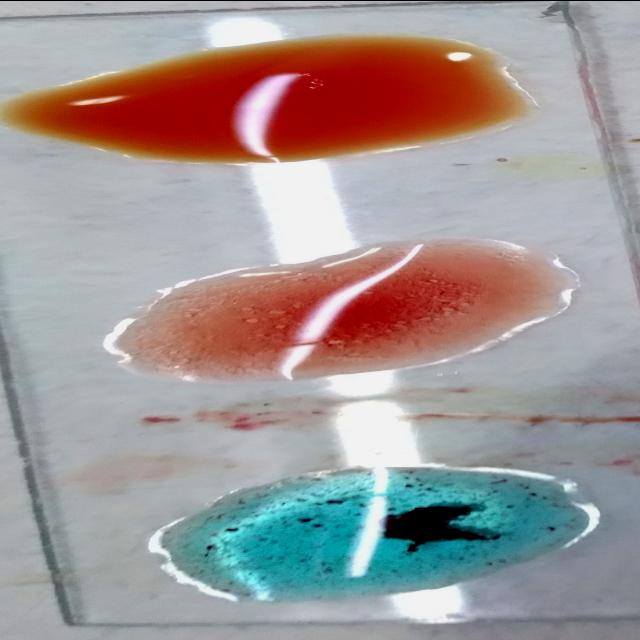A: (168, 464, 584, 601)
D: (134, 249, 563, 369)
